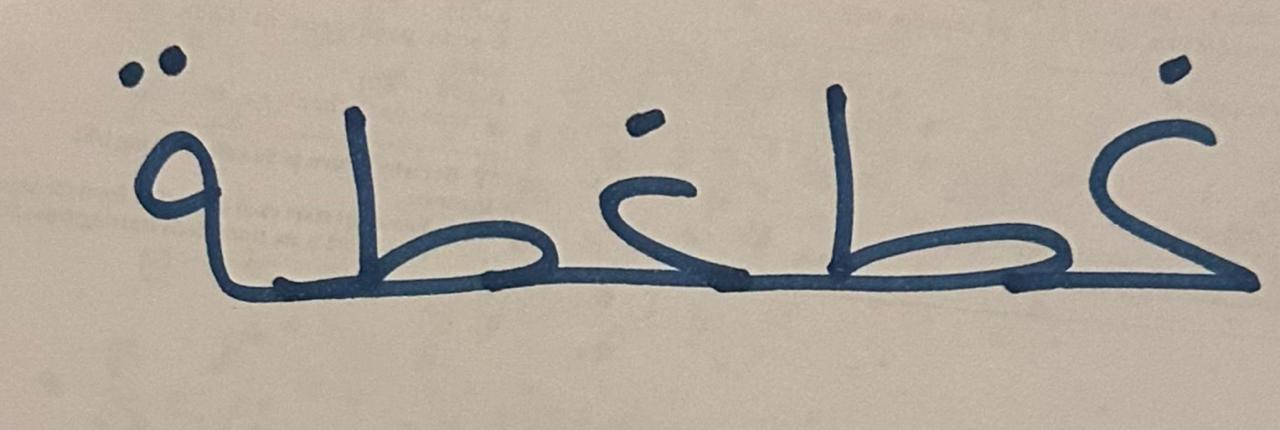ghain: (1079, 25, 1271, 348), (579, 45, 772, 355)
teh: (266, 69, 576, 378), (776, 42, 1077, 359)
thal: (79, 13, 260, 385)
